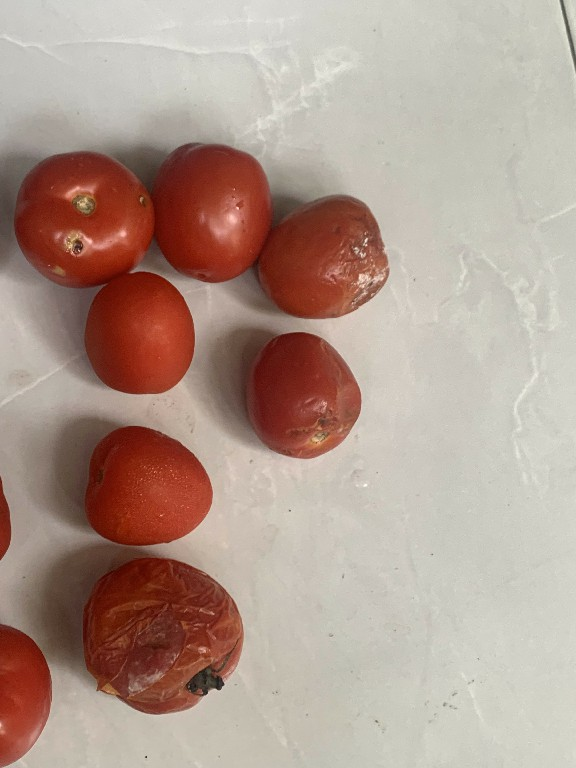NG: (82, 550, 246, 722), (12, 146, 157, 289), (255, 189, 388, 321), (244, 324, 360, 464)
OK: (75, 417, 220, 545), (154, 138, 276, 283), (80, 268, 199, 400)
